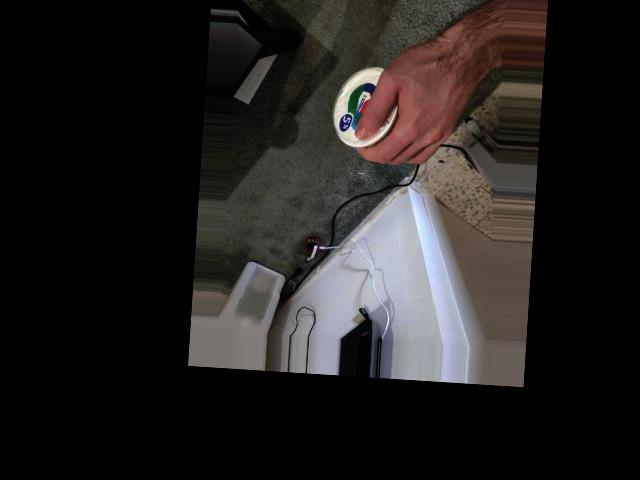cotage: (330, 64, 407, 151)
